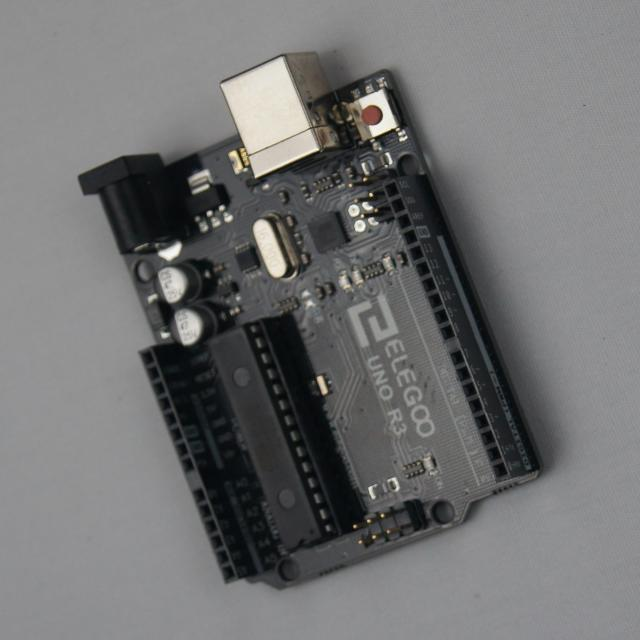Arduino Uno -Black-: (80, 54, 540, 588)
